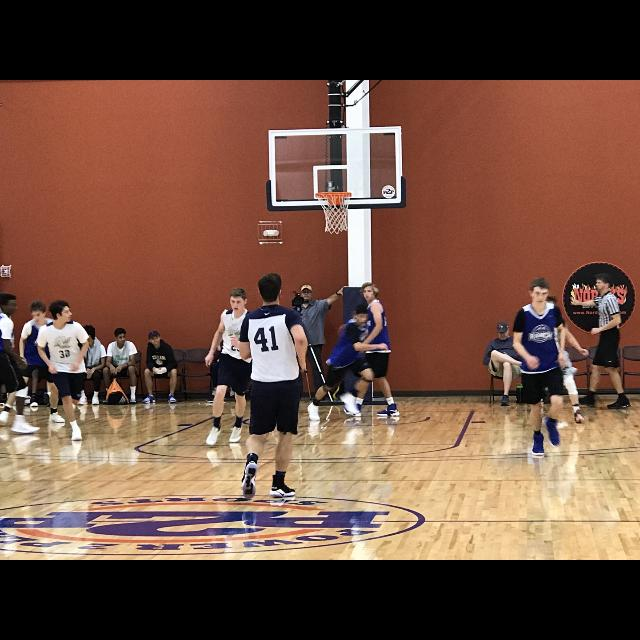head: (258, 273, 284, 301), (528, 279, 550, 307), (52, 302, 74, 324), (0, 294, 20, 316), (30, 300, 48, 324), (230, 290, 248, 314), (595, 274, 613, 292), (354, 306, 370, 326), (362, 283, 378, 301), (81, 326, 95, 344), (497, 324, 511, 341), (542, 296, 556, 312), (148, 333, 162, 347), (114, 328, 126, 344), (301, 285, 313, 301)
person: (238, 271, 310, 499), (509, 277, 573, 461), (308, 307, 390, 427), (203, 286, 260, 448), (525, 294, 591, 430), (570, 273, 634, 413), (0, 299, 68, 427), (32, 298, 92, 442), (342, 282, 401, 421), (286, 282, 348, 402), (0, 292, 42, 438), (483, 320, 539, 408), (69, 323, 107, 407), (104, 326, 140, 408), (142, 329, 180, 405)
